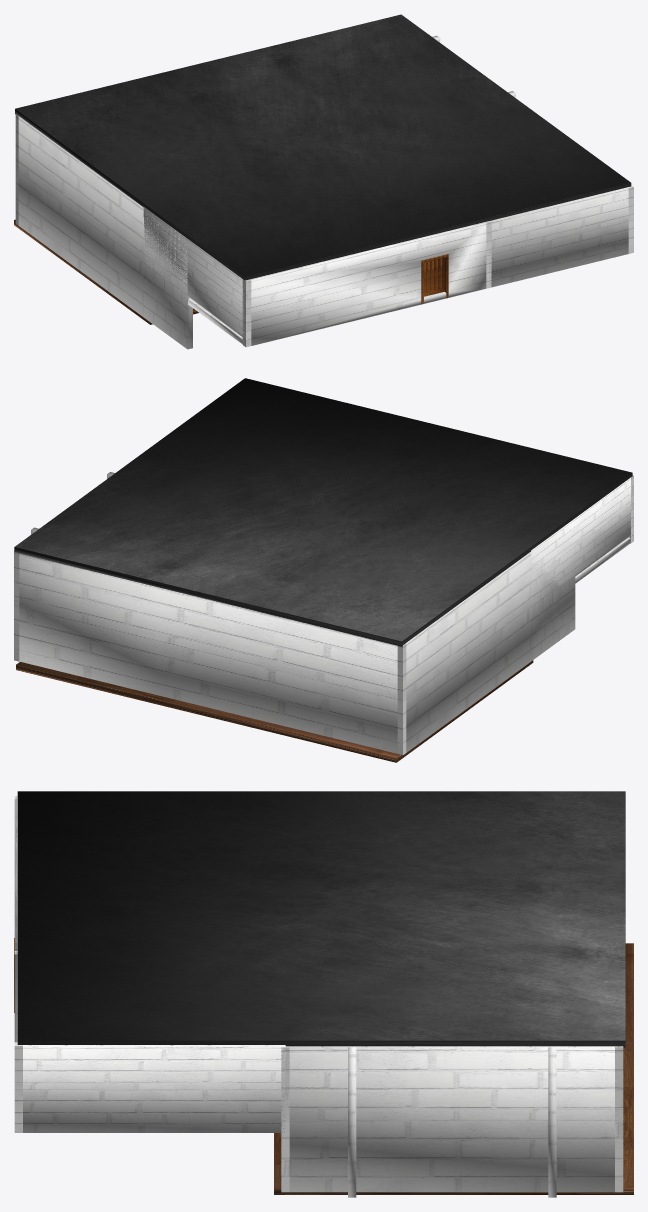
The model's file is Club_map.fbx.
3 views of the same model, one above another, from view 1: azimuth 30°, elevation 25°; view 2: azimuth 150°, elevation 25°; view 3: azimuth 270°, elevation 25° (orthographic). The views are drawn at different scales.
Parts seen in each view (by area): view 1: Box02, Wall03, PivotDoor14, Box03; view 2: Box02, Wall03, Box03; view 3: Box02, Wall03, Box03.
Boxes of the visible parts, <box> form: Box02: <box>15,14,631,280</box>; Wall03: <box>15,35,633,349</box>; PivotDoor14: <box>421,254,448,304</box>; Box03: <box>14,219,198,324</box>; Box02: <box>14,378,632,646</box>; Wall03: <box>14,472,633,755</box>; Box03: <box>16,660,533,762</box>; Box02: <box>17,791,625,1047</box>; Wall03: <box>14,796,623,1197</box>; Box03: <box>274,943,633,1194</box>.
Bounding box in the file's own units: 36250 × 10428 × 37194.
